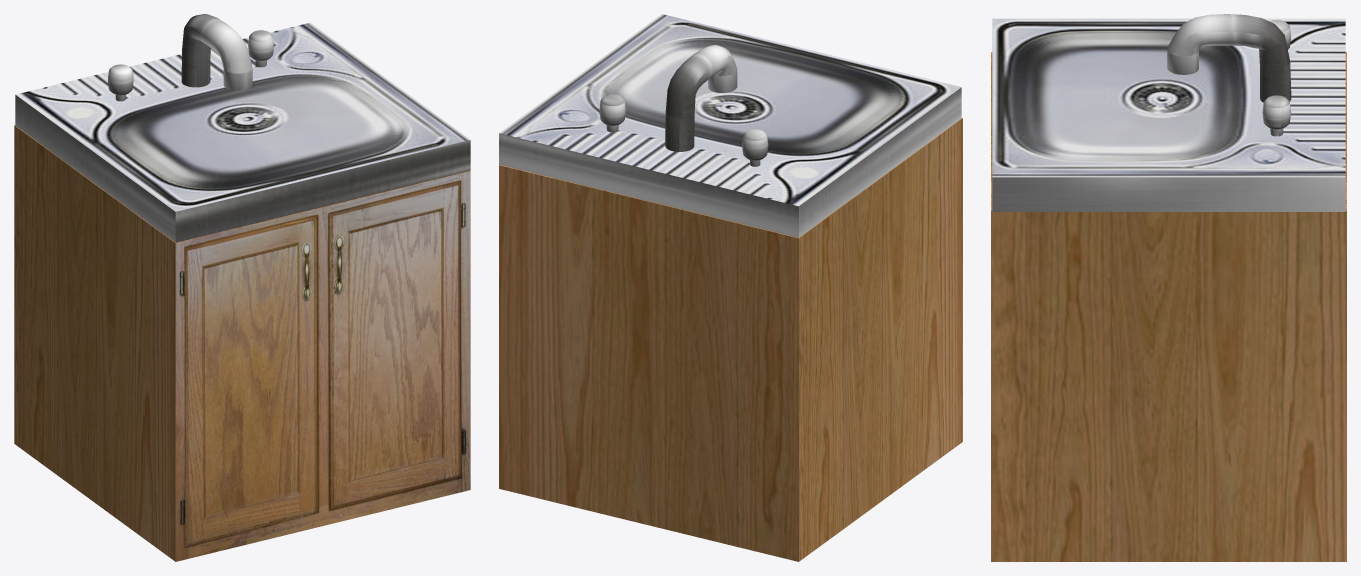
The model's file is kitchen sink.fbx.
3 views of the same model, side by side, from view 1: azimuth 30°, elevation 25°; view 2: azimuth 150°, elevation 25°; view 3: azimuth 270°, elevation 25° (orthographic). The views are drawn at different scales.
Visible parts, largest first — view 1: pCube2, pCube3, pCylinder2, pasted__pasted__pCylinder1, pCylinder3; view 2: pCube2, pCube3, pCylinder2, pasted__pasted__pCylinder1, pCylinder3; view 3: pCube2, pCube3, pCylinder2, pasted__pasted__pCylinder1.
Part boxes in pixels (bbox=[...]): pCube2: bbox=[14, 125, 470, 561]; pCube3: bbox=[15, 22, 470, 242]; pCylinder2: bbox=[181, 14, 252, 90]; pasted__pasted__pCylinder1: bbox=[248, 30, 273, 67]; pCylinder3: bbox=[107, 64, 133, 101]; pCube2: bbox=[499, 118, 962, 561]; pCube3: bbox=[499, 14, 961, 237]; pCylinder2: bbox=[665, 45, 737, 151]; pasted__pasted__pCylinder1: bbox=[599, 94, 625, 132]; pCylinder3: bbox=[742, 129, 768, 166]; pCube2: bbox=[991, 52, 1346, 561]; pCube3: bbox=[992, 18, 1345, 211]; pCylinder2: bbox=[1167, 14, 1291, 102]; pasted__pasted__pCylinder1: bbox=[1262, 95, 1291, 136].
Size of the model in its own units: 3.8 by 5.22 by 3.59.
2 materials, 2 textured.
